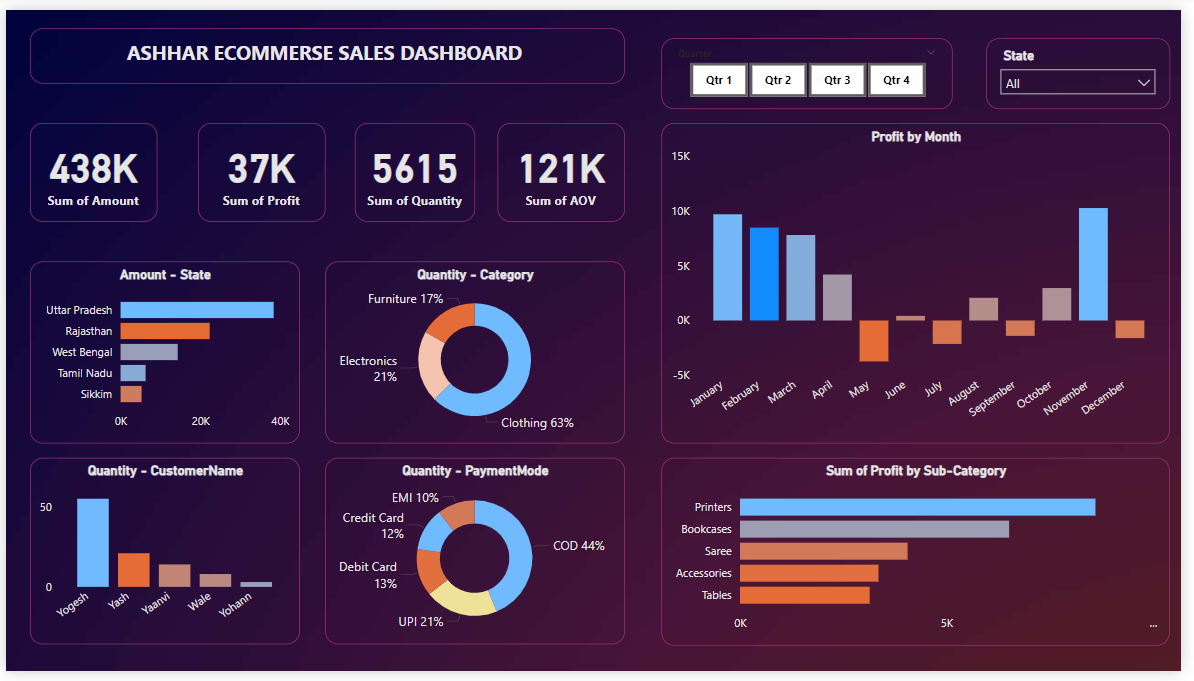

The page's visual inventory and layout, read from the dashboard file:
{"tool":"powerbi","page":{"name":"Page 1","canvas":[1280,720],"ordinal":0},"visuals":[{"type":"columnChart","title":"Profit by Month","fields":{"Y":["Details.Profit"],"Category":["Orders.Order Date.Variation.Date Hierarchy.Month"]},"box":[713.8,123.1,553.8,349.2],"z":0},{"type":"textbox","box":[26.2,20,647.7,60],"z":1000},{"type":"barChart","fields":{"Category":["Details.Sub-Category"],"Y":["Details.Profit"]},"box":[713.8,487.7,553.8,204.6],"z":2000},{"type":"donutChart","title":"Quantity - Category","fields":{"Category":["Details.Category"],"Y":["Details.Quantity"]},"box":[347.7,273.8,326.2,198.5],"z":3000},{"type":"donutChart","title":"Quantity - PaymentMode","fields":{"Y":["Details.Quantity"],"Category":["Details.PaymentMode"]},"box":[347.7,487.7,326.2,203.1],"z":4000},{"type":"card","fields":{"Values":["Details.Amount"]},"box":[26.2,123.1,138.5,107.7],"z":5000},{"type":"card","fields":{"Values":["Details.Profit"]},"box":[209.2,123.1,138.5,107.7],"z":6000},{"type":"card","fields":{"Values":["Details.Quantity"]},"box":[380,123.1,130.8,107.7],"z":7000},{"type":"card","fields":{"Values":["Details.AOV"]},"box":[535.4,123.1,138.5,107.7],"z":8000},{"type":"barChart","title":"Amount - State","fields":{"Category":["Orders.State"],"Y":["Details.Amount"]},"box":[26.2,273.8,293.8,198.5],"z":9000},{"type":"columnChart","title":"Quantity - CustomerName","fields":{"Category":["Orders.CustomerName"],"Y":["Details.Quantity"]},"box":[26,488,294,203],"z":10000},{"type":"slicer","fields":{"Values":["Orders.Order Date.Variation.Date Hierarchy.Quarter"]},"box":[713.8,30.8,316.9,76.9],"z":11000},{"type":"slicer","fields":{"Values":["Orders.State"]},"box":[1067.7,30.8,200,76.9],"z":11001}]}

Visuals, with their boxes in screenshot pixels (x1, y1, x2, y2), scaled from the page's 1280x720 canvas onto the 1194x681 screenshot:
"Profit by Month" columnChart: box(666, 116, 1182, 447)
textbox: box(24, 19, 629, 76)
barChart - Details.Sub-Category x Details.Profit: box(666, 461, 1182, 655)
"Quantity - Category" donutChart: box(324, 259, 629, 447)
"Quantity - PaymentMode" donutChart: box(324, 461, 629, 653)
card - Details.Amount: box(24, 116, 154, 218)
card - Details.Profit: box(195, 116, 324, 218)
card - Details.Quantity: box(354, 116, 476, 218)
card - Details.AOV: box(499, 116, 629, 218)
"Amount - State" barChart: box(24, 259, 298, 447)
"Quantity - CustomerName" columnChart: box(24, 462, 298, 654)
slicer - Orders.Order Date.Variation.Date Hierarchy.Quarter: box(666, 29, 961, 102)
slicer - Orders.State: box(996, 29, 1183, 102)
